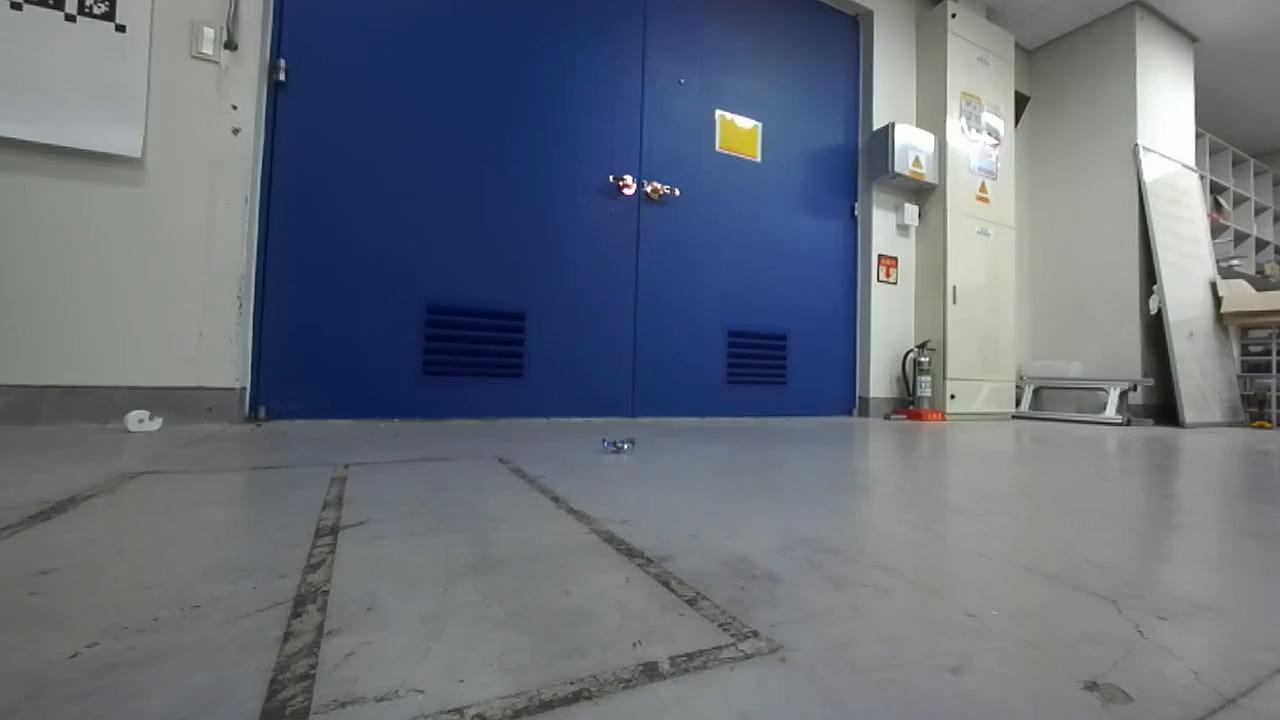crazyflie: (591, 430, 645, 456)
